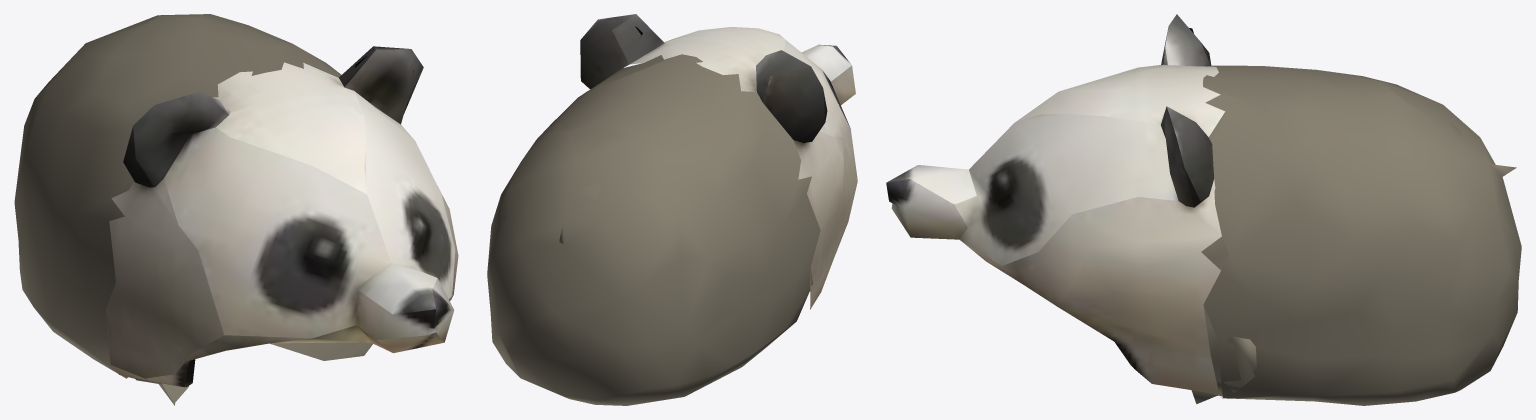
File: panda.glb
The picture shows the model from 3 angles, left to right: view 1: azimuth 30°, elevation 25°; view 2: azimuth 150°, elevation 25°; view 3: azimuth 270°, elevation 25°; orthographic projection. The views are drawn at different scales.
Parts seen in each view (by area): view 1: geometry_0, HoodAnatomicalLining; view 2: geometry_0; view 3: geometry_0, HoodAnatomicalLining.
Part boxes in pixels (x1,y1,x2,y2): geometry_0: (14, 14, 458, 387); HoodAnatomicalLining: (134, 342, 372, 405); geometry_0: (487, 14, 857, 405); geometry_0: (886, 14, 1521, 405); HoodAnatomicalLining: (1191, 112, 1256, 404).
Size of the model in its own units: 0.4668 by 0.4892 by 0.9177.
2 materials, 1 textured.
